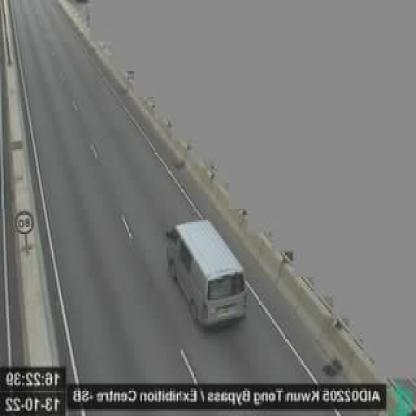Car: (166, 219, 248, 327)
